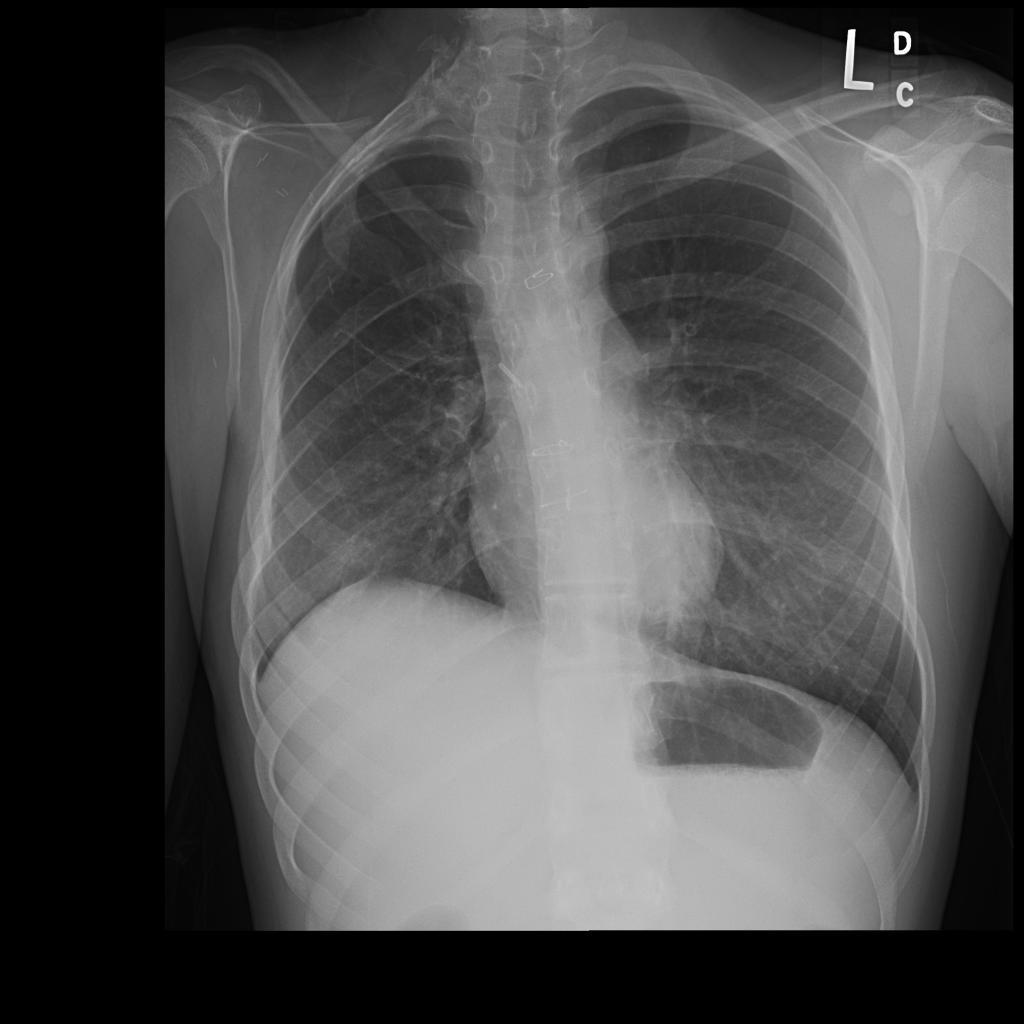Nodule: (155, 174, 183, 215)
